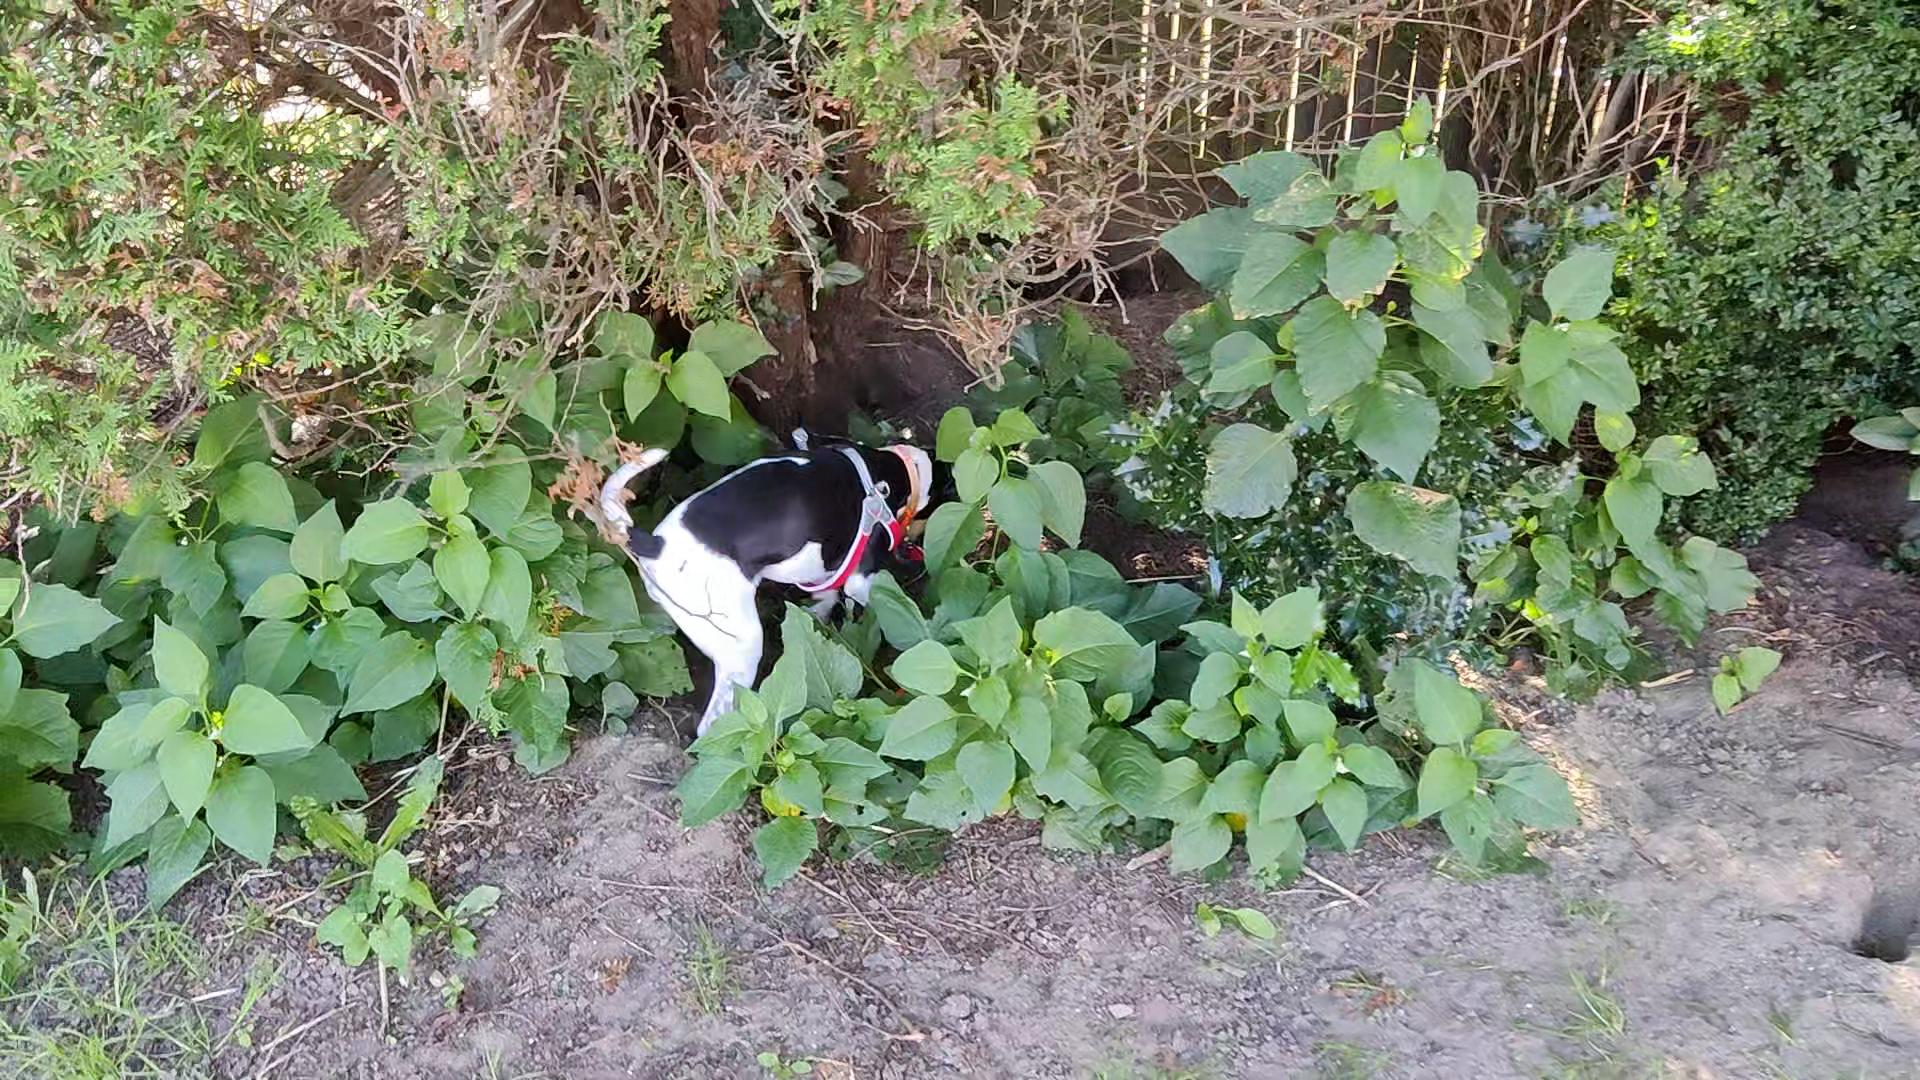Dog: (585, 397, 969, 757)
